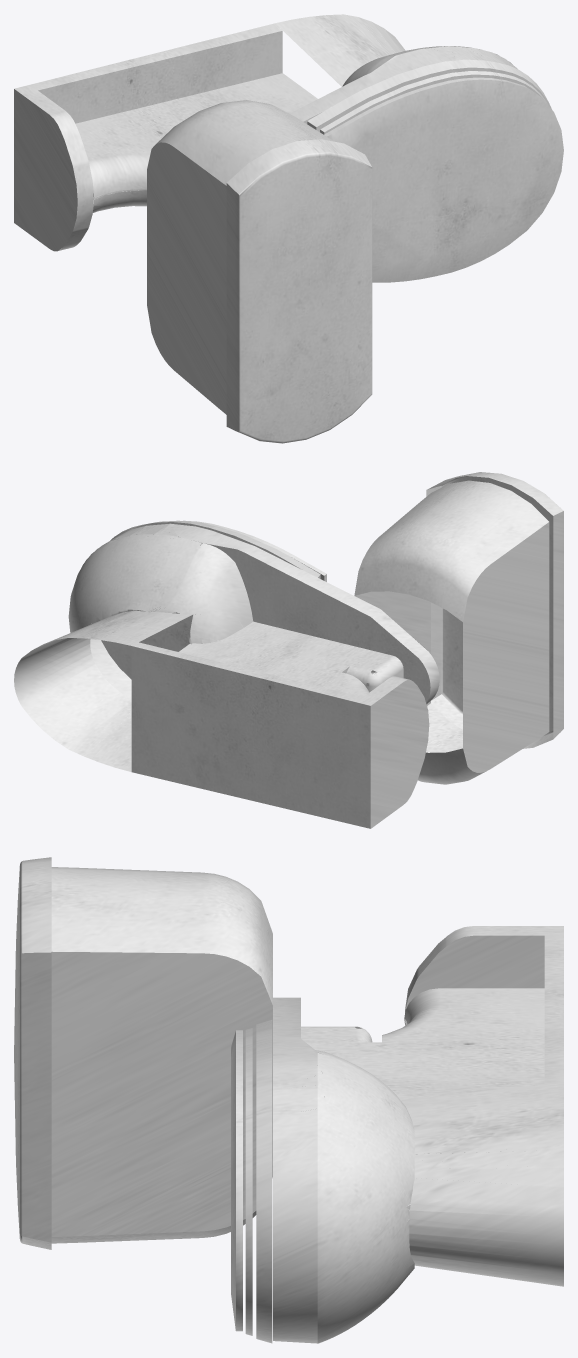
File: toilettes.glb
3 renders of one model, top to bottom at view 1: azimuth 30°, elevation 25°; view 2: azimuth 150°, elevation 25°; view 3: azimuth 270°, elevation 25°, orthographic. The views are drawn at different scales.
Visible parts, largest first — view 1: Object_4; view 2: Object_4; view 3: Object_4.
Part boxes in pixels (box(x1,y1,x2,y2)): Object_4: box(14, 14, 563, 443); Object_4: box(14, 472, 563, 828); Object_4: box(14, 857, 563, 1343).
Size of the model in its own units: 0.8715 by 0.5739 by 0.7842.
1 material, 1 textured.
